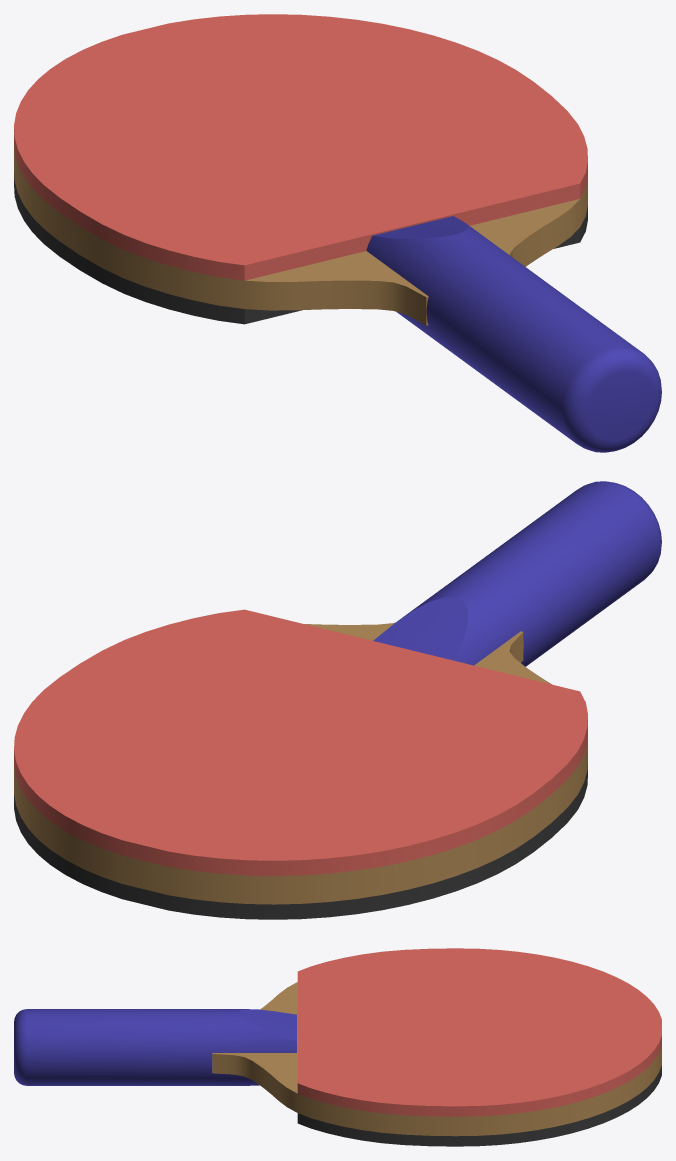
File: TT_Racket.fbx
3 renders of one model, top to bottom at view 1: azimuth 30°, elevation 25°; view 2: azimuth 150°, elevation 25°; view 3: azimuth 270°, elevation 25°, orthographic. The views are drawn at different scales.
Visible parts, largest first — view 1: TT_Racket; view 2: TT_Racket; view 3: TT_Racket.
Part boxes in pixels (x1,y1,x2,y2): TT_Racket: (14,14,661,452); TT_Racket: (14,481,661,919); TT_Racket: (14,948,661,1146).
Size of the model in its own units: 14.43 by 2.97 by 25.01.
